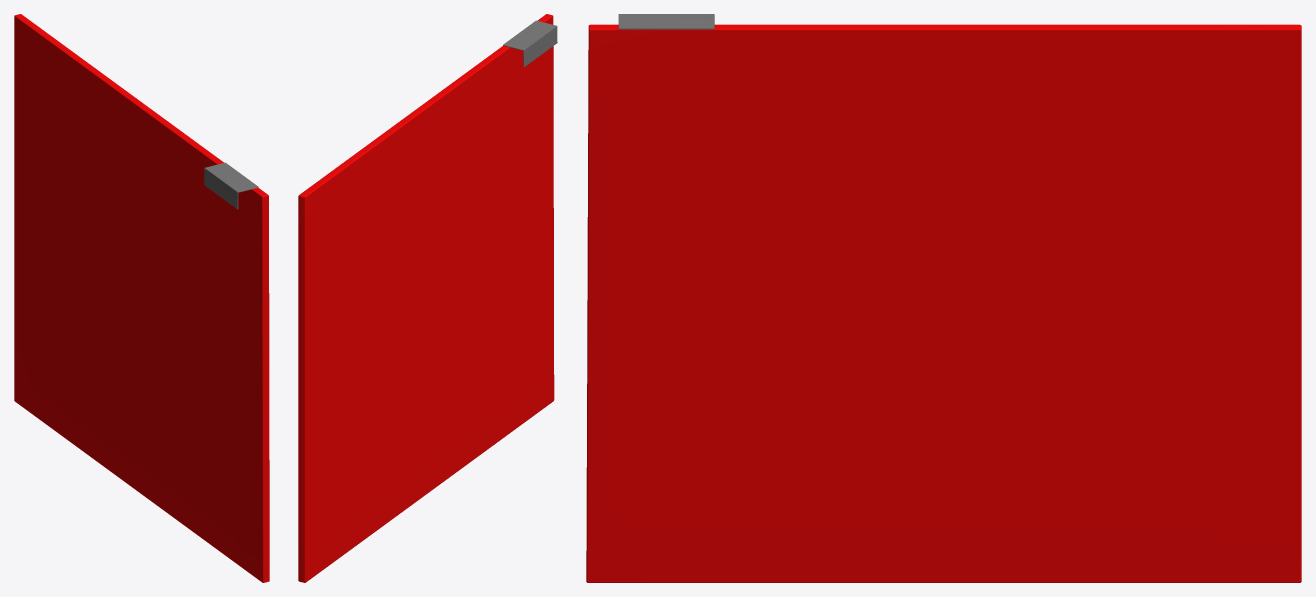
File: SM_Ki_Sink_Door_01.fbx
The picture shows the model from 3 angles, left to right: view 1: azimuth 30°, elevation 25°; view 2: azimuth 150°, elevation 25°; view 3: azimuth 270°, elevation 25°; orthographic projection. The views are drawn at different scales.
Parts seen in each view (by area): view 1: Kitchen_Door_Corner_01.003; view 2: Kitchen_Door_Corner_01.003; view 3: Kitchen_Door_Corner_01.003.
Part boxes in pixels (x1=…): Kitchen_Door_Corner_01.003: x1=14, y1=14, x2=269, y2=582; Kitchen_Door_Corner_01.003: x1=298, y1=14, x2=557, y2=582; Kitchen_Door_Corner_01.003: x1=586, y1=14, x2=1301, y2=582.
Bounding box in the file's own units: 3.37 × 57.98 × 67.68.
